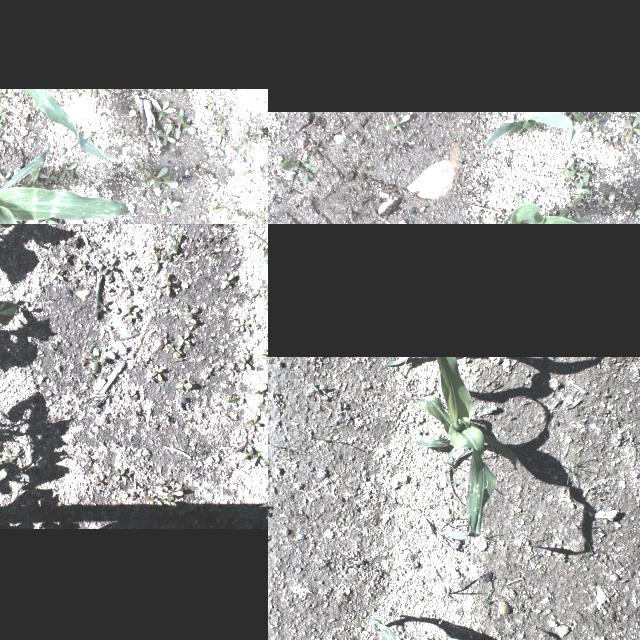crop: (387, 357, 498, 533), (0, 138, 134, 224), (24, 88, 114, 160), (501, 187, 640, 224), (479, 111, 575, 163), (372, 615, 484, 640)
weed: (281, 138, 323, 182), (140, 158, 180, 196), (234, 126, 264, 156), (168, 106, 196, 138), (23, 208, 64, 224), (82, 347, 106, 371), (574, 175, 592, 205), (304, 380, 330, 400), (158, 271, 178, 295), (160, 196, 186, 214), (566, 161, 590, 179), (156, 126, 177, 146), (152, 98, 178, 114), (177, 302, 199, 320), (30, 166, 54, 182), (386, 114, 410, 130), (159, 486, 183, 502), (625, 114, 640, 139), (213, 203, 235, 220), (247, 384, 267, 402), (62, 160, 78, 182), (206, 95, 227, 111), (239, 448, 255, 467), (249, 209, 268, 224), (107, 127, 127, 141), (84, 89, 112, 99), (580, 118, 600, 132), (554, 158, 574, 172), (220, 270, 234, 290), (120, 280, 140, 294), (230, 316, 250, 330), (148, 252, 164, 268), (168, 232, 182, 250), (102, 256, 116, 274), (246, 414, 260, 432), (250, 452, 268, 466), (216, 109, 230, 125), (74, 256, 90, 270), (4, 450, 20, 464), (149, 364, 163, 380), (16, 300, 34, 312), (120, 304, 132, 322), (239, 352, 251, 370), (172, 382, 192, 392), (226, 397, 246, 407), (156, 499, 178, 508), (176, 331, 190, 345), (158, 332, 174, 344), (125, 388, 137, 404), (215, 136, 225, 154), (258, 394, 268, 411), (95, 299, 107, 313), (169, 342, 181, 356), (114, 468, 126, 482), (144, 495, 158, 507), (154, 480, 168, 492), (572, 198, 580, 218), (250, 287, 266, 297), (0, 107, 9, 124), (568, 112, 586, 120), (153, 242, 165, 254), (60, 250, 70, 264), (166, 238, 176, 252), (131, 408, 141, 422), (0, 172, 13, 182), (207, 119, 220, 129), (492, 210, 502, 223), (162, 247, 172, 260), (203, 366, 213, 379), (0, 92, 15, 100), (606, 136, 618, 146), (54, 267, 64, 279), (94, 476, 104, 488), (164, 479, 176, 489), (255, 346, 268, 355), (228, 362, 236, 376), (599, 196, 609, 207), (220, 128, 226, 146), (635, 195, 640, 215), (515, 188, 525, 198), (84, 368, 94, 378), (559, 208, 567, 218), (123, 249, 131, 259), (245, 433, 253, 442), (566, 176, 574, 184), (128, 263, 136, 271), (162, 415, 168, 425), (178, 89, 190, 93), (538, 122, 544, 130)
